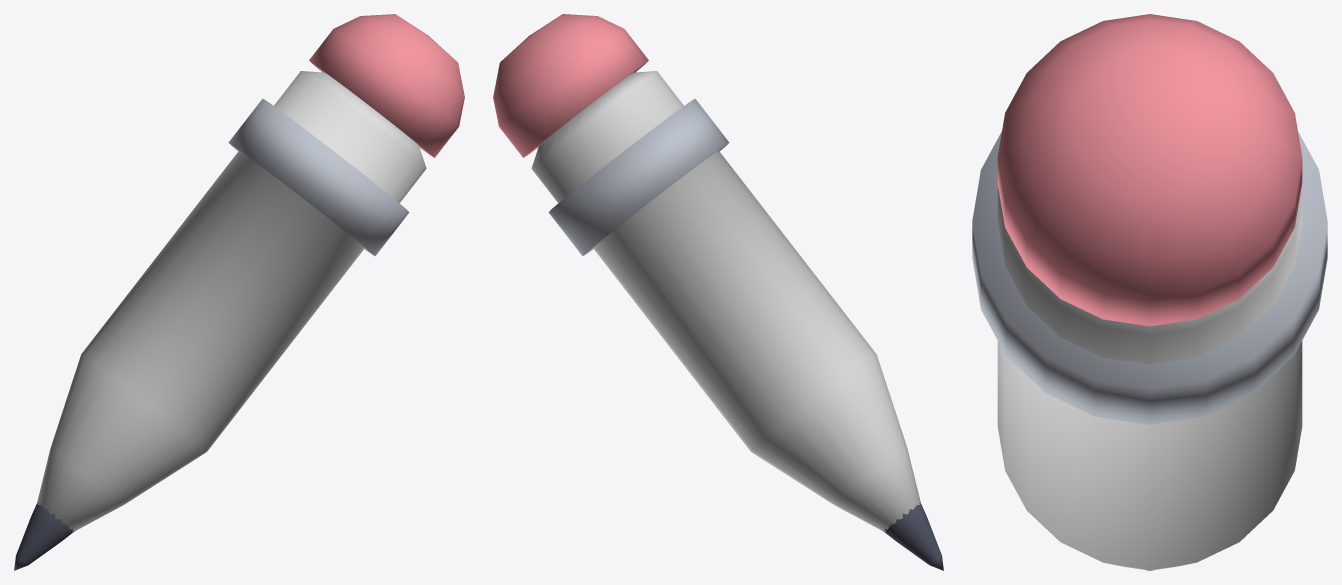
Rendered from pencil.glb.
3 views of the same model, side by side, from view 1: azimuth 30°, elevation 25°; view 2: azimuth 150°, elevation 25°; view 3: azimuth 270°, elevation 25° (orthographic). The views are drawn at different scales.
Visible parts, largest first — view 1: pencil; view 2: pencil; view 3: pencil.
Part boxes in pixels (x1,y1,x2,y2): pencil: (14, 14, 464, 570); pencil: (493, 14, 943, 570); pencil: (972, 14, 1327, 570).
Size of the model in its own units: 1 by 1 by 0.3666.
